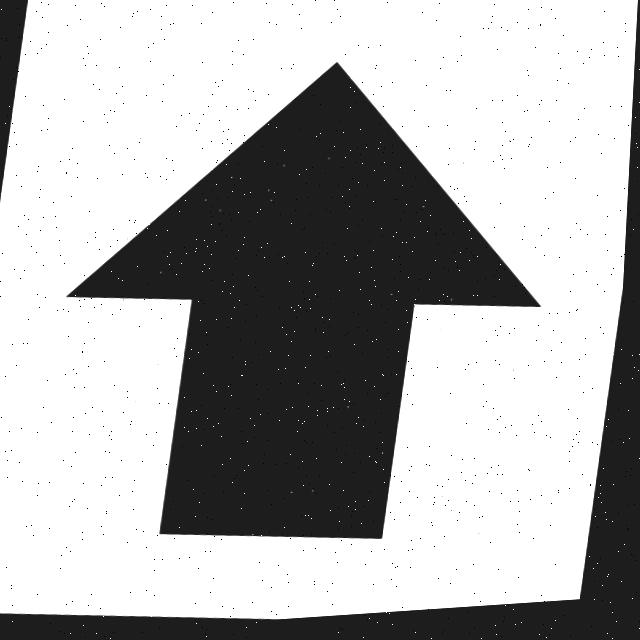UP: (73, 68, 541, 543)
